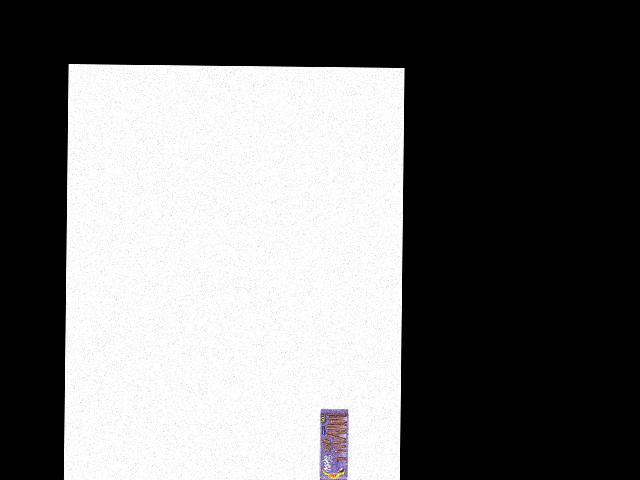chocolate: (318, 407, 352, 480)
